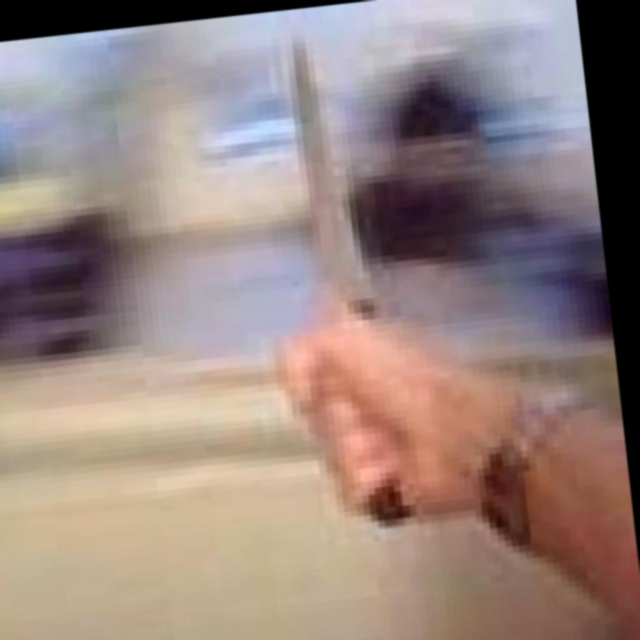Sharp-Object: (282, 28, 411, 529)
